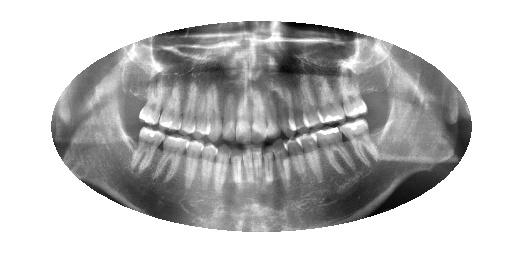i10healthy: (229, 145, 245, 196)
i11healthy: (213, 142, 232, 196)
i12healthy: (195, 139, 219, 195)
i13healthy: (180, 137, 206, 191)
i14healthy: (151, 133, 190, 188)
i15healthy: (129, 124, 167, 182)
i2healthy: (337, 117, 382, 169)
i3healthy: (311, 126, 360, 177)
i4healthy: (295, 130, 327, 185)
i5healthy: (282, 135, 309, 185)
i6healthy: (271, 134, 295, 192)
i7healthy: (261, 140, 277, 195)
i8healthy: (250, 142, 265, 189)
i9healthy: (239, 141, 255, 192)
u10healthy: (221, 81, 237, 145)
u11healthy: (202, 79, 223, 143)
u12healthy: (189, 81, 210, 142)
u13healthy: (176, 78, 197, 137)
u14healthy: (158, 77, 185, 135)
u15healthy: (133, 76, 165, 127)
u2healthy: (337, 69, 373, 125)
u3healthy: (312, 70, 348, 127)
u4healthy: (296, 73, 323, 131)
u5healthy: (282, 73, 312, 135)
u6healthy: (271, 75, 296, 138)
u7healthy: (261, 81, 280, 143)
u8decay: (249, 81, 270, 146)
u9healthy: (235, 79, 253, 146)
